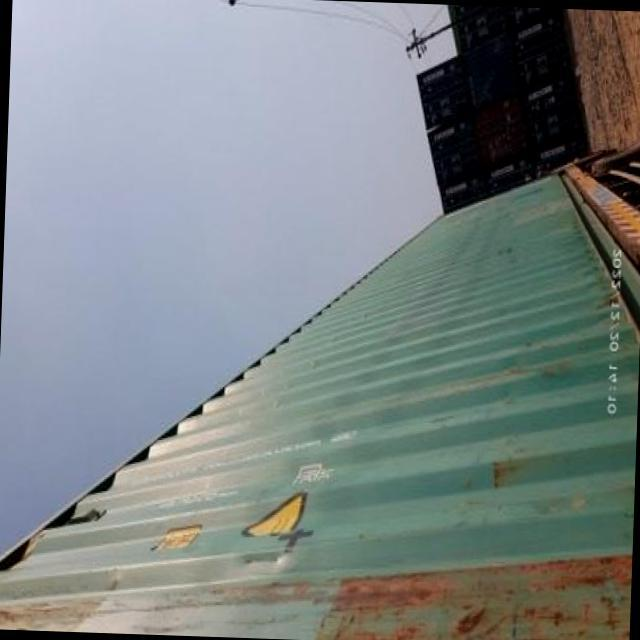rust: (320, 549, 627, 640)
